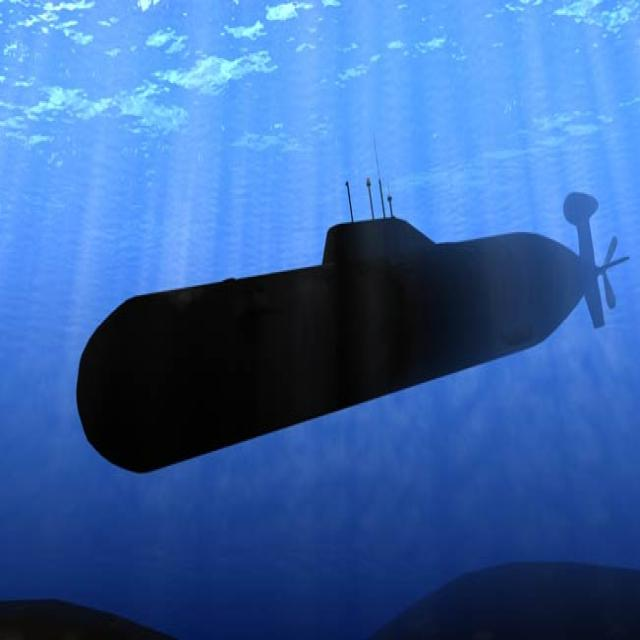Submarine-Arihant-Class-IND: (52, 144, 625, 475)
